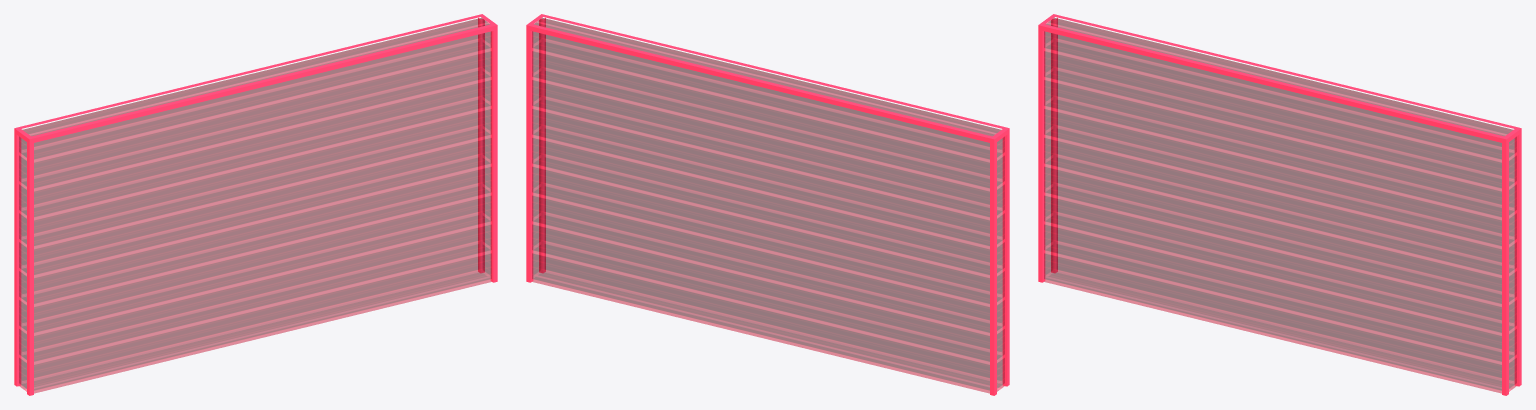
The model's file is kb_door.glb.
3 renders of one model, left to right at view 1: azimuth 30°, elevation 25°; view 2: azimuth 150°, elevation 25°; view 3: azimuth 330°, elevation 25°, orthographic.
Parts seen in each view (by area): view 1: skin; view 2: skin; view 3: skin.
Part boxes in pixels (box(x1,y1,x2,y2)): skin: box(14, 14, 497, 395); skin: box(526, 14, 1009, 395); skin: box(1038, 14, 1521, 395).
Size of the model in its own units: 8.48 by 4.44 by 0.48.
